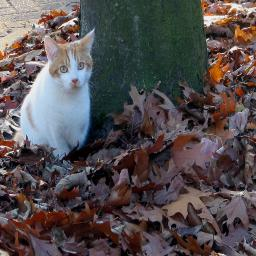catnose: (72, 78, 78, 84)
